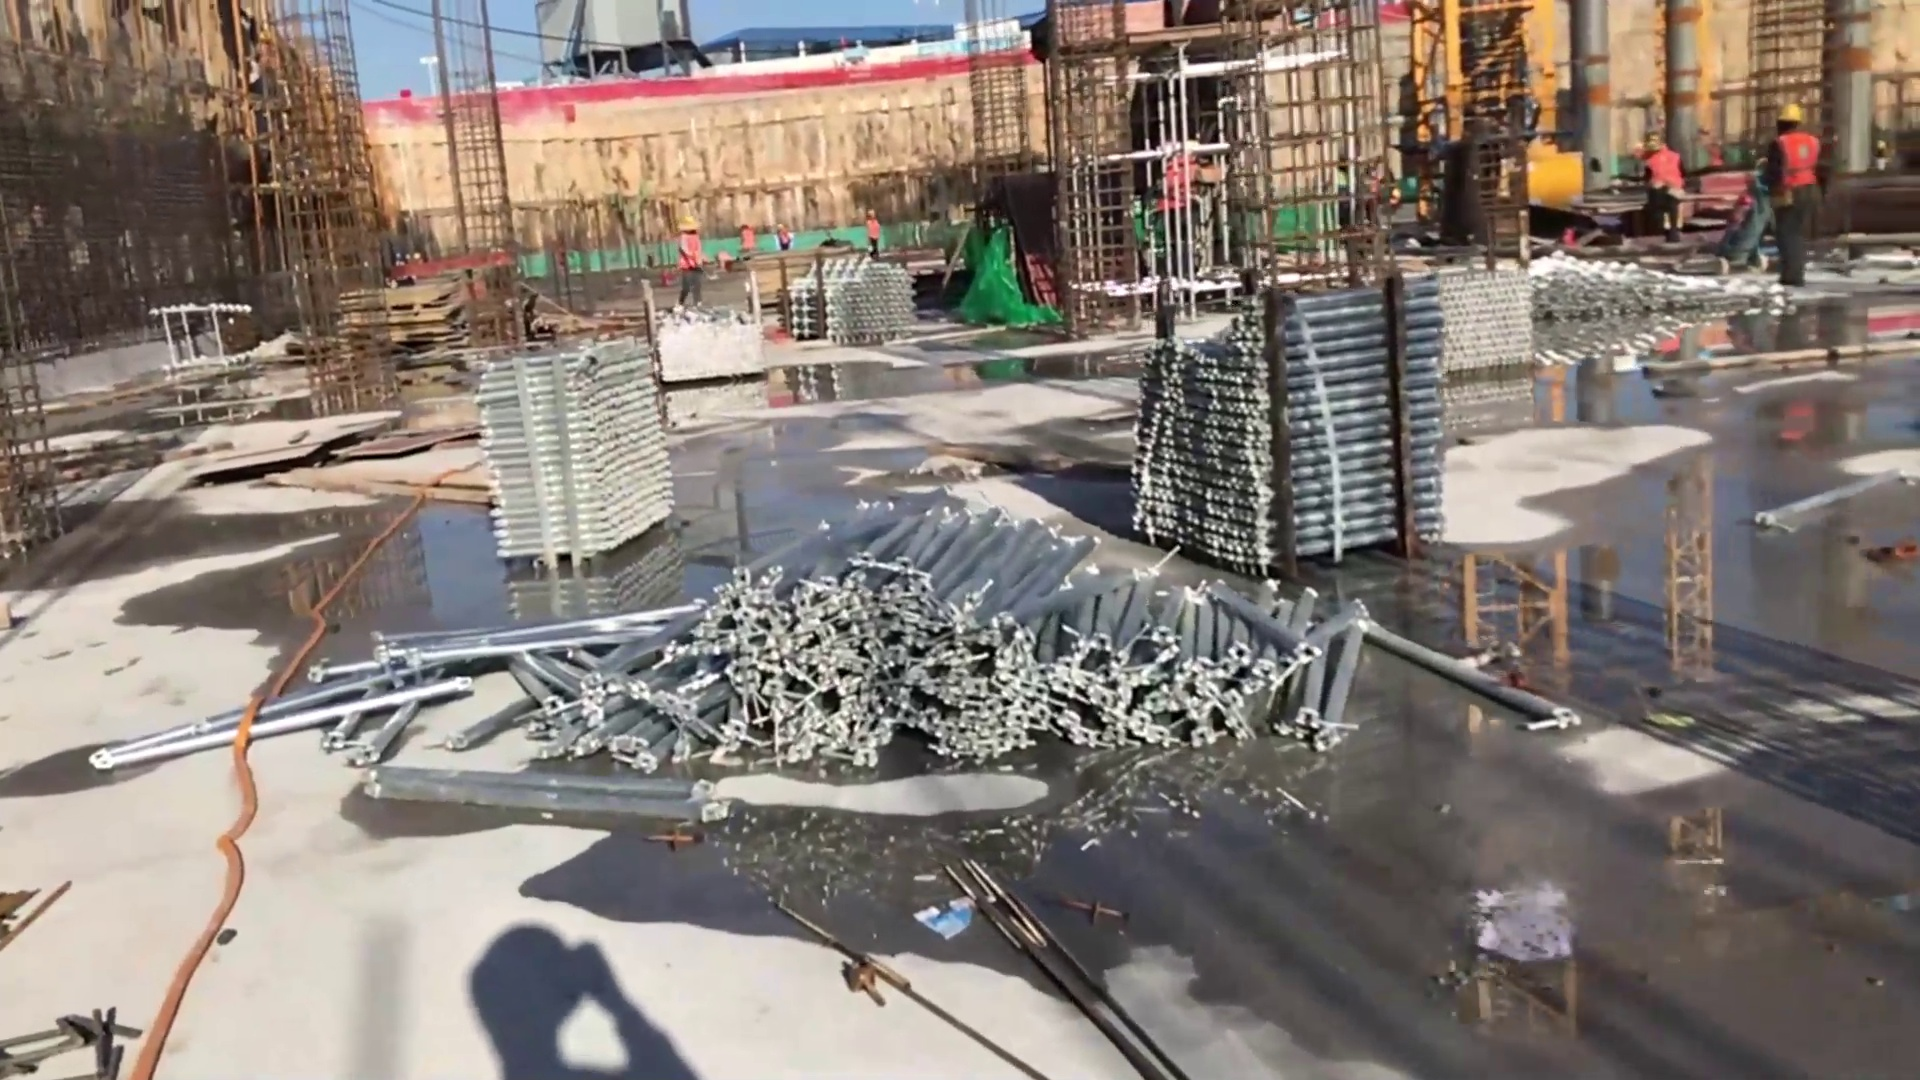board: (346, 281, 469, 350)
person: (1759, 97, 1821, 280), (1633, 124, 1686, 235), (665, 211, 704, 304), (731, 219, 762, 266), (862, 210, 886, 260)
scaffold: (1133, 296, 1444, 560), (739, 551, 1043, 766), (475, 347, 673, 554), (1535, 254, 1706, 316), (1441, 269, 1533, 368)
